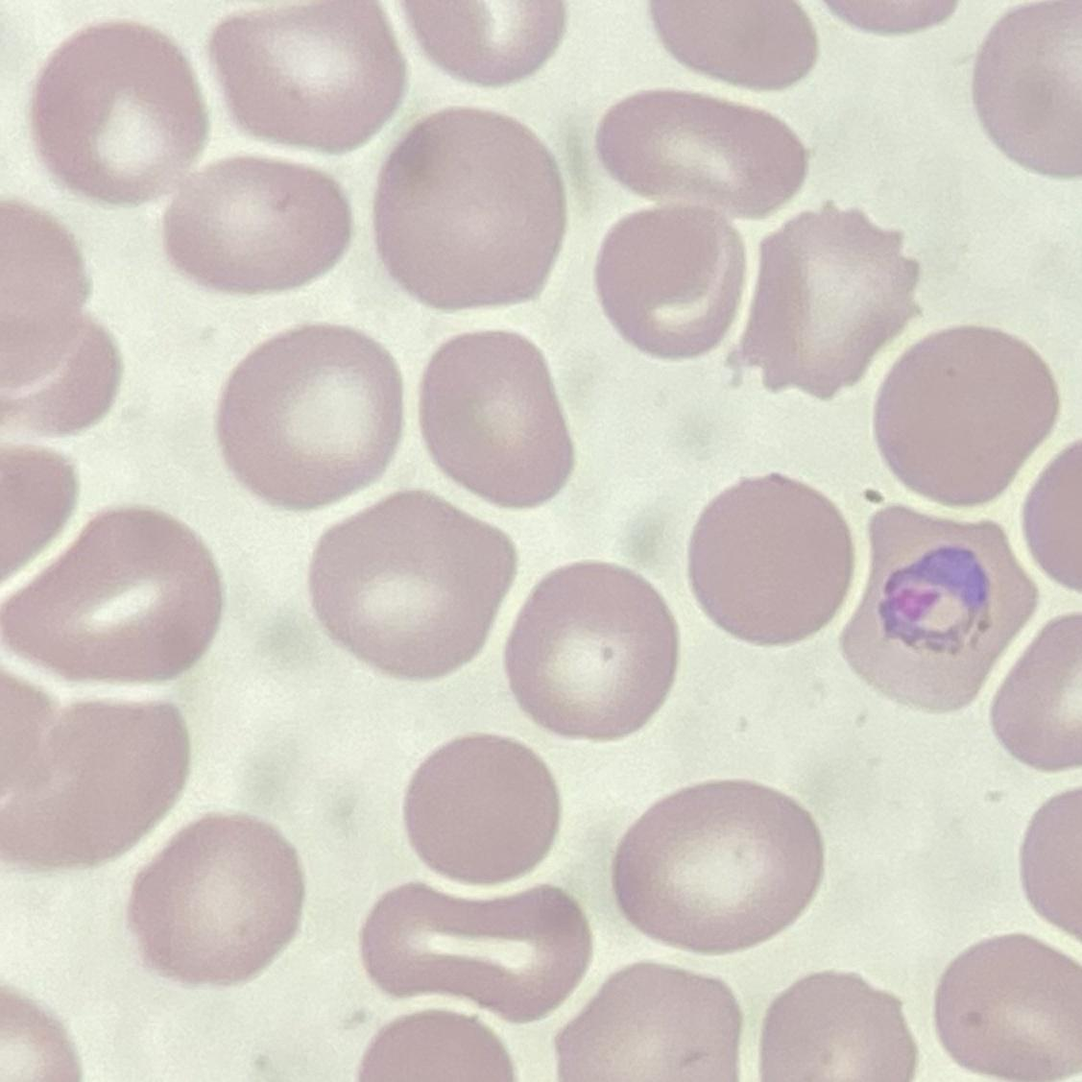Infected: (846, 502, 1036, 712)
Uninfected: (10, 505, 224, 692), (303, 496, 515, 680), (718, 208, 916, 396), (609, 780, 821, 950), (378, 108, 555, 310), (361, 878, 592, 1027), (872, 321, 1055, 509), (215, 325, 402, 506), (27, 27, 211, 207), (0, 699, 187, 870), (205, 0, 411, 153), (507, 563, 683, 740), (131, 811, 305, 987), (687, 475, 856, 645), (419, 327, 572, 505), (597, 87, 806, 216), (163, 156, 354, 294), (591, 200, 746, 357), (403, 734, 561, 886), (551, 960, 743, 1082), (933, 926, 1082, 1082), (972, 0, 1082, 181), (758, 968, 915, 1082), (987, 611, 1082, 775)
